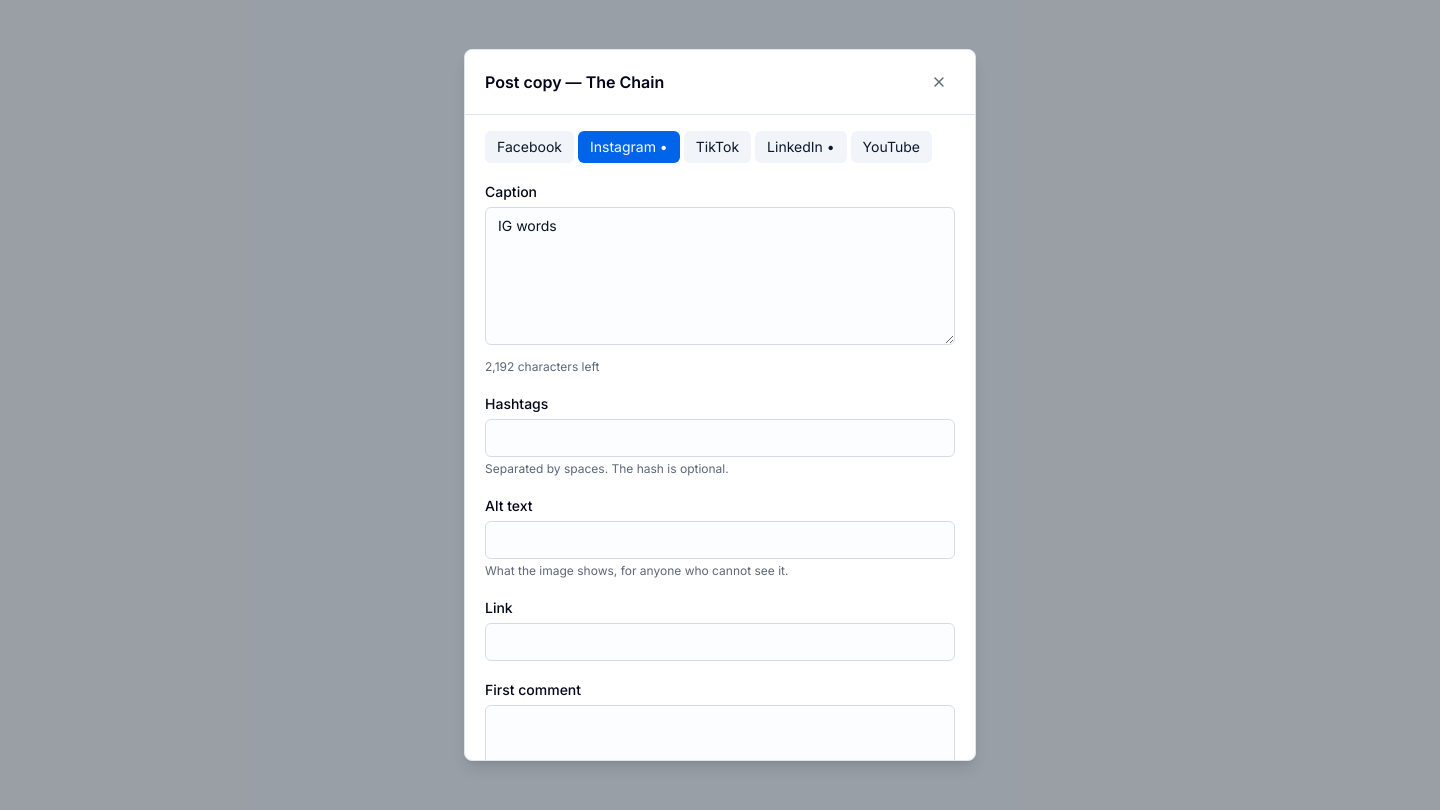
Test: the copy editor › swaps the draft when the platform changes, instead of carrying it over
Check: the text box showing "IG words" is shown, box [485, 207, 955, 345]
What coordinates should you click on to do the following:
click the tab "LinkedIn •"
I would click on:
 (801, 147)
Its box is [755, 131, 847, 163].
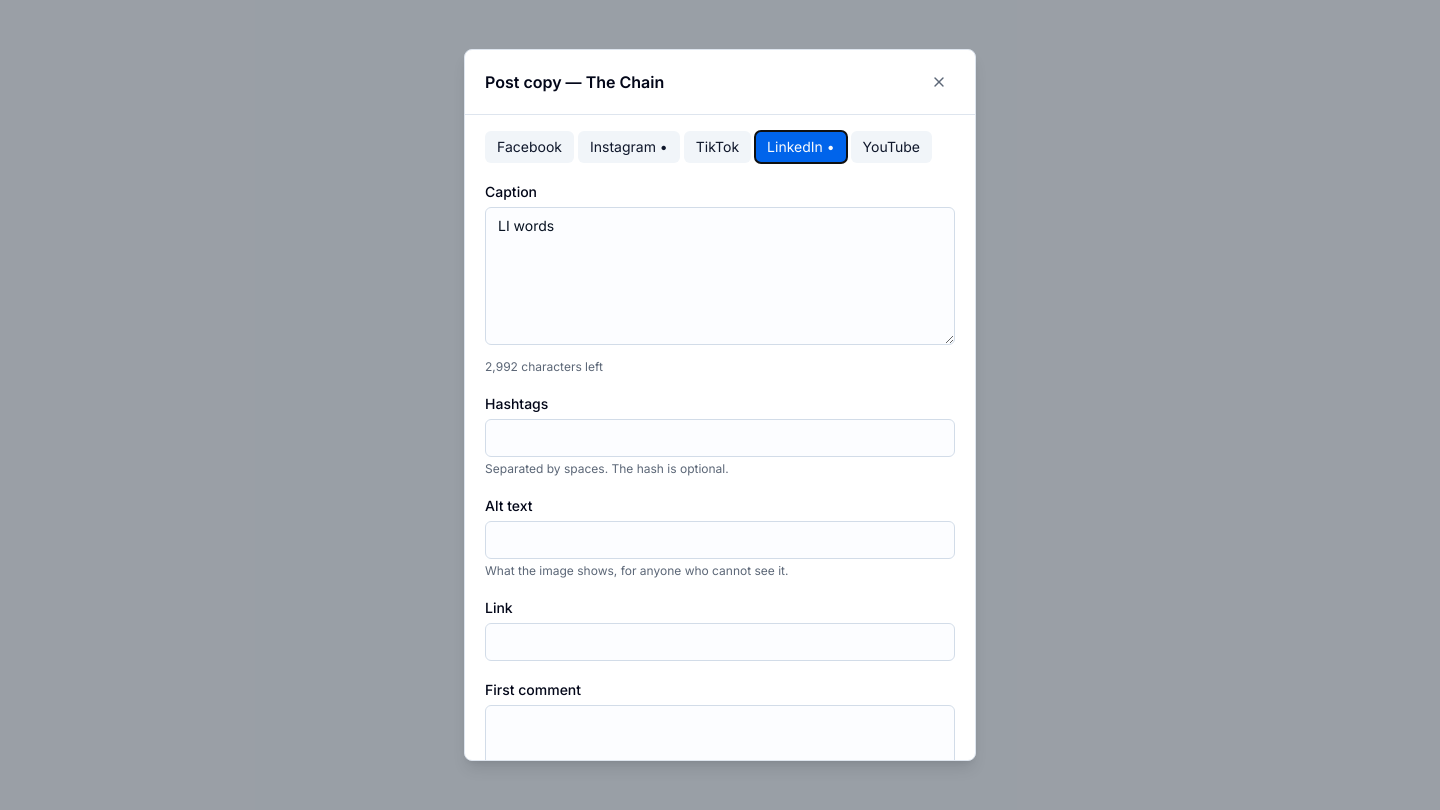
Check: the field showing "IG words" is not shown
Check: the text box showing "LI words" is shown, box [485, 207, 955, 345]
